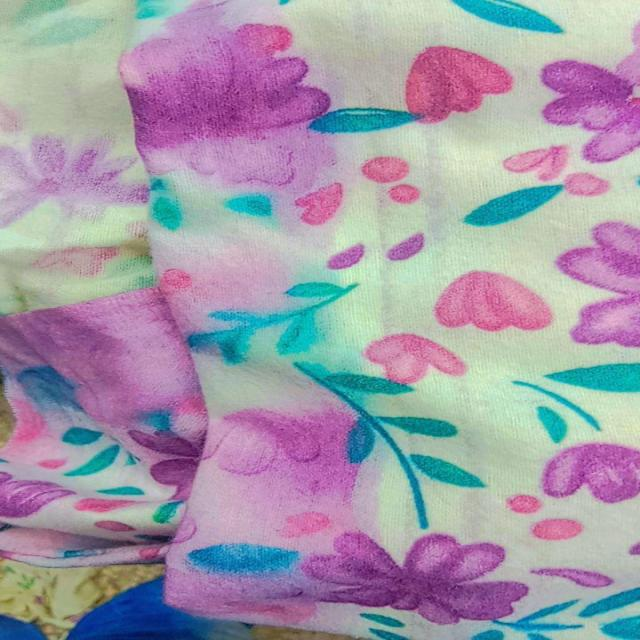baekra: (7, 2, 389, 633)
